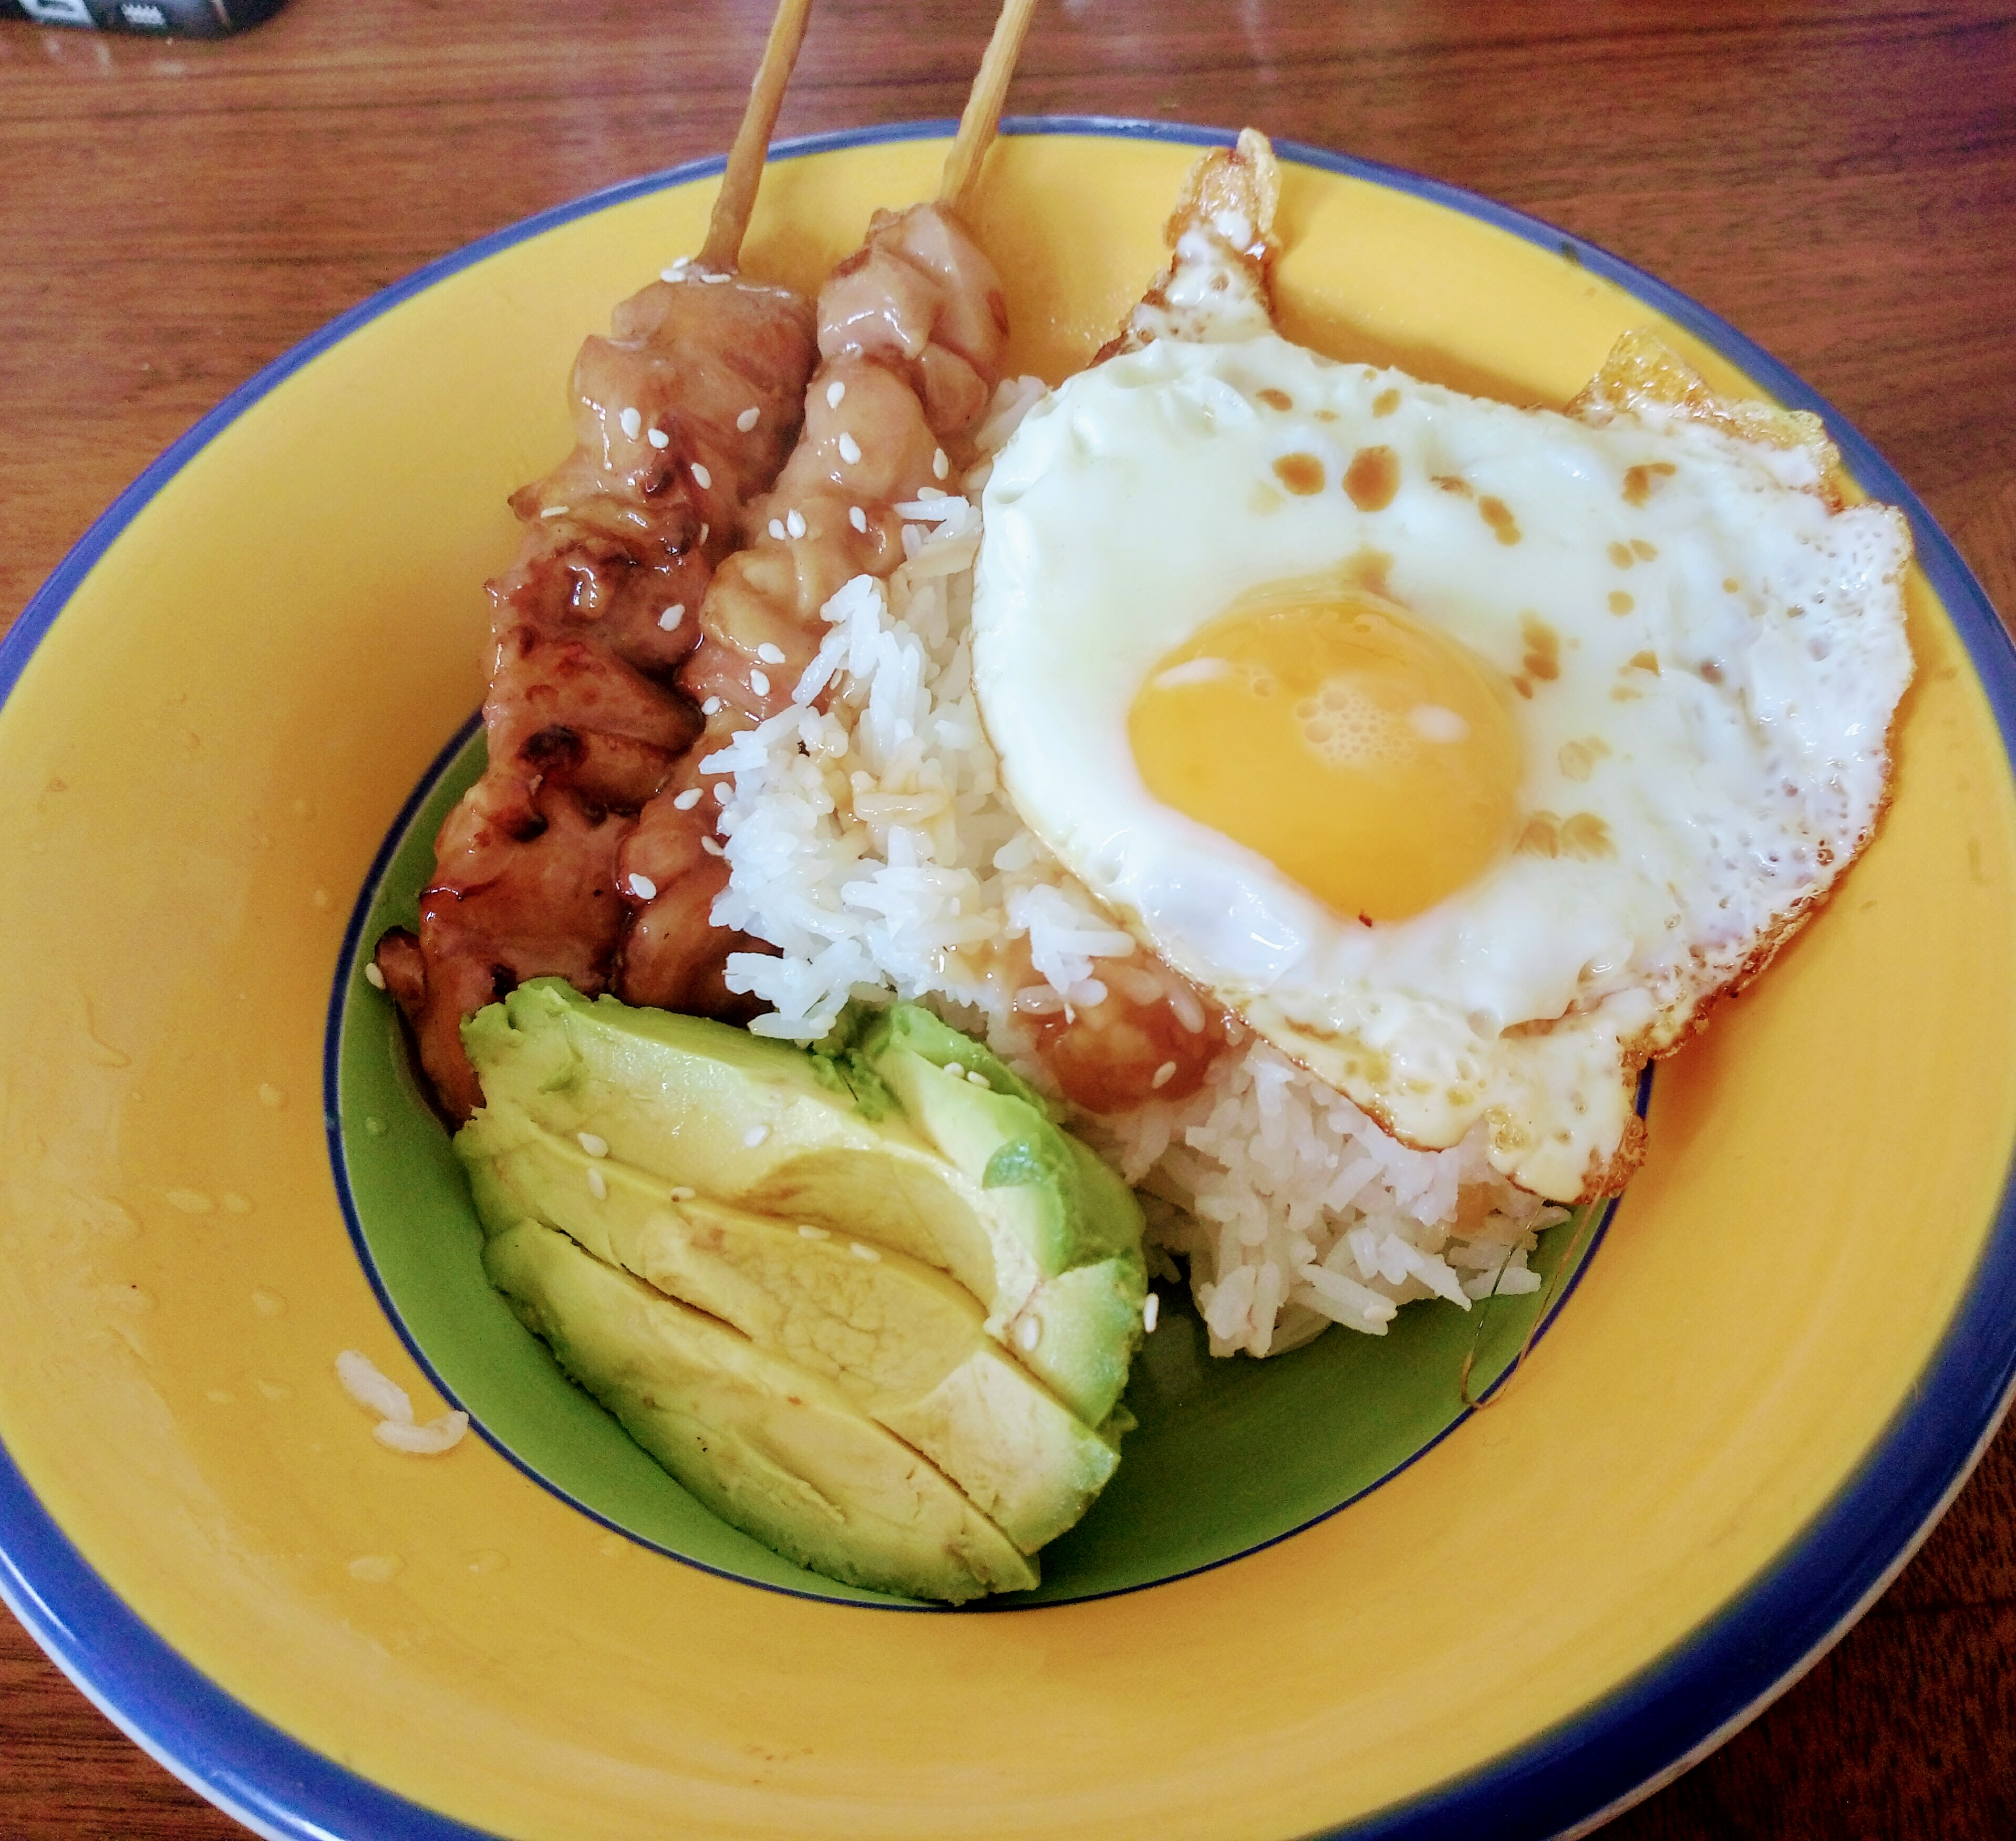fried egg: (996, 251, 1904, 1119)
plain rice: (739, 538, 1038, 1142)
